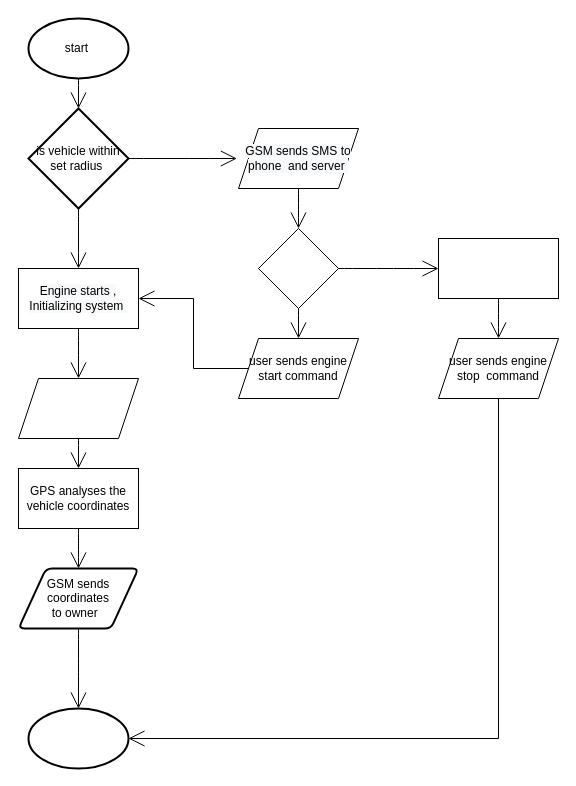
Image size: 576x786. Some labels were removed from this diagram. The centre of each missing label's shape, as x and y in pixels:
if user is with the car: (298,268)
LCD outputs information: (78,408)
Stop: (78,738)
Theft identified , siren starts: (498,268)
